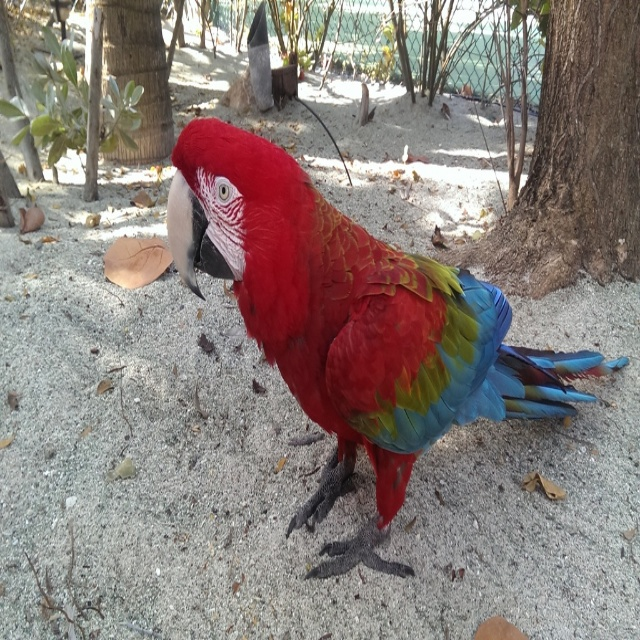Parrot: (168, 112, 628, 576)
